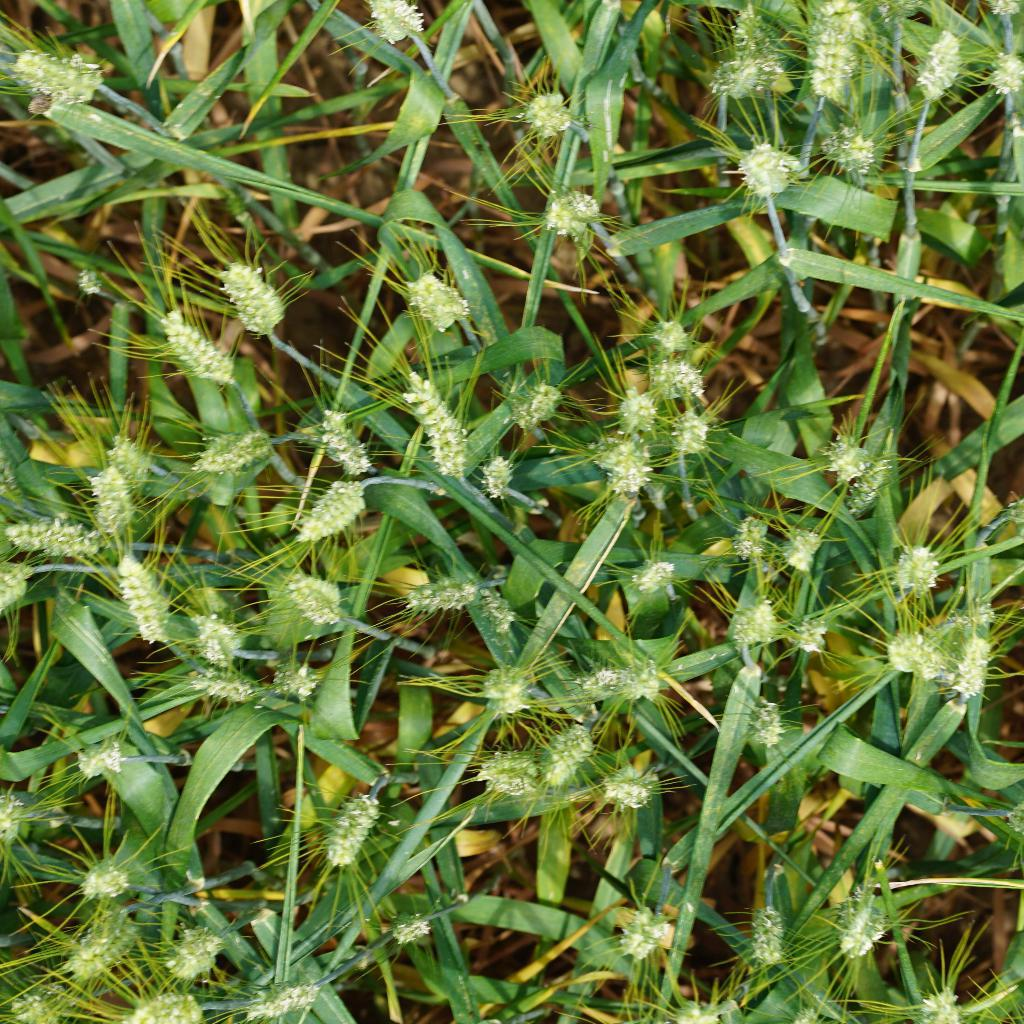0-0: (389, 366, 477, 484), (144, 306, 256, 391), (100, 542, 187, 650), (4, 36, 129, 109), (279, 470, 399, 546), (210, 245, 298, 348), (792, 0, 869, 115), (316, 774, 391, 869), (451, 727, 542, 802), (712, 0, 777, 100), (164, 649, 260, 713), (176, 415, 281, 473), (275, 563, 357, 635), (393, 271, 481, 336), (0, 512, 112, 563), (598, 890, 680, 959), (718, 590, 792, 664), (873, 617, 948, 690), (171, 600, 251, 668), (537, 167, 609, 242), (58, 916, 148, 976), (509, 83, 589, 149), (303, 408, 380, 475), (915, 22, 970, 111), (732, 124, 796, 200), (817, 114, 881, 190), (830, 894, 892, 970), (387, 565, 485, 612), (460, 650, 542, 706), (157, 918, 236, 976), (589, 744, 664, 804), (946, 627, 1005, 698), (579, 654, 661, 705), (112, 978, 202, 1024), (63, 731, 135, 788), (357, 0, 435, 52), (494, 366, 555, 432), (545, 720, 598, 789), (266, 654, 329, 712), (747, 691, 798, 762), (591, 432, 650, 493), (0, 556, 63, 612), (783, 606, 843, 664), (242, 975, 324, 1017), (89, 426, 156, 477), (71, 852, 141, 900), (86, 466, 135, 534), (885, 538, 942, 595), (740, 901, 789, 965), (728, 505, 778, 567), (662, 407, 713, 464), (621, 550, 683, 595), (0, 986, 71, 1024), (474, 453, 527, 503), (651, 362, 714, 403), (821, 429, 866, 486), (643, 310, 694, 359), (770, 520, 819, 571), (606, 382, 658, 430), (380, 901, 432, 949), (0, 787, 40, 848), (478, 586, 520, 642), (985, 49, 1024, 104), (69, 267, 105, 301)
